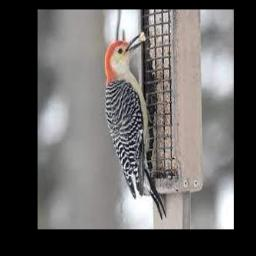Woodpecker: (105, 33, 166, 219)
